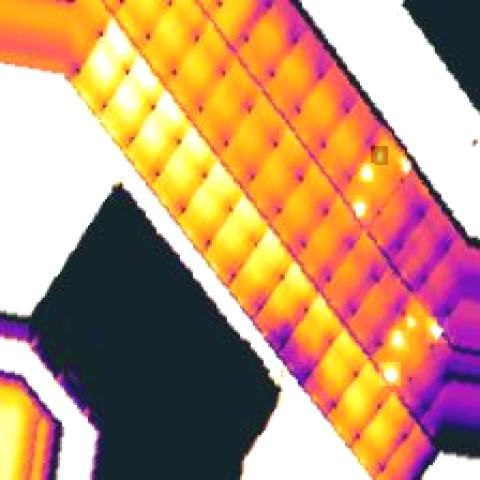fault: (345, 195, 371, 225), (426, 317, 448, 343), (379, 362, 401, 386), (394, 154, 416, 176), (388, 330, 409, 351), (403, 313, 420, 332), (371, 146, 388, 165), (358, 163, 375, 182)
